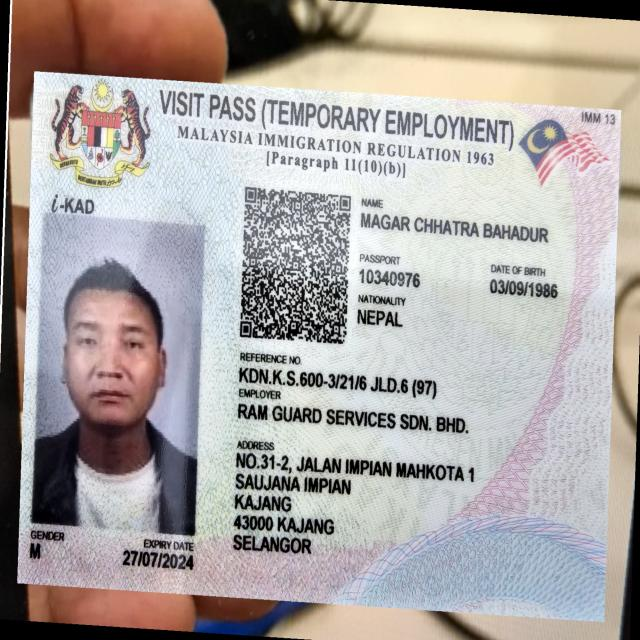ikad-temp: (17, 69, 623, 626)
